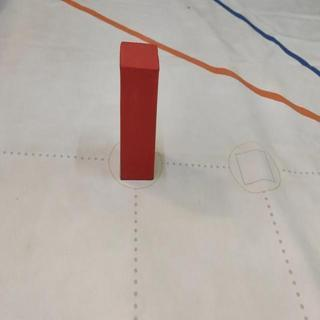redbox: (119, 41, 158, 181)
